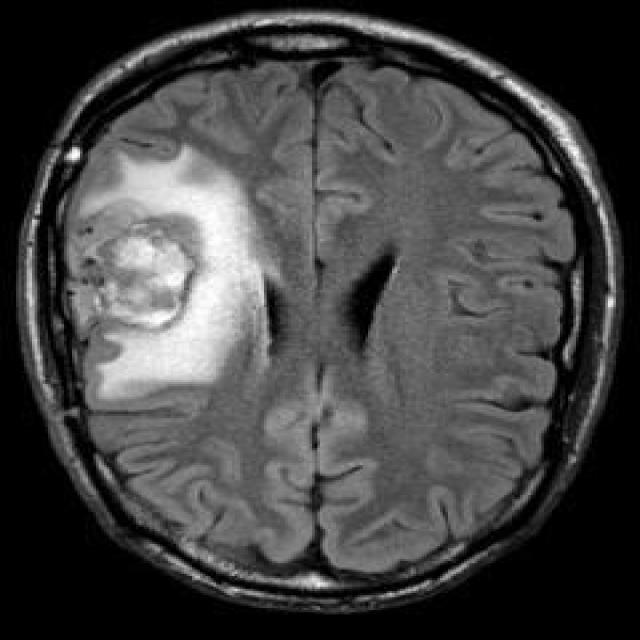brain tumor: (72, 143, 272, 401)
